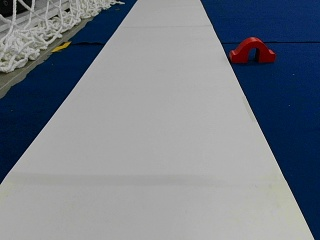bridge: (230, 37, 275, 62)
